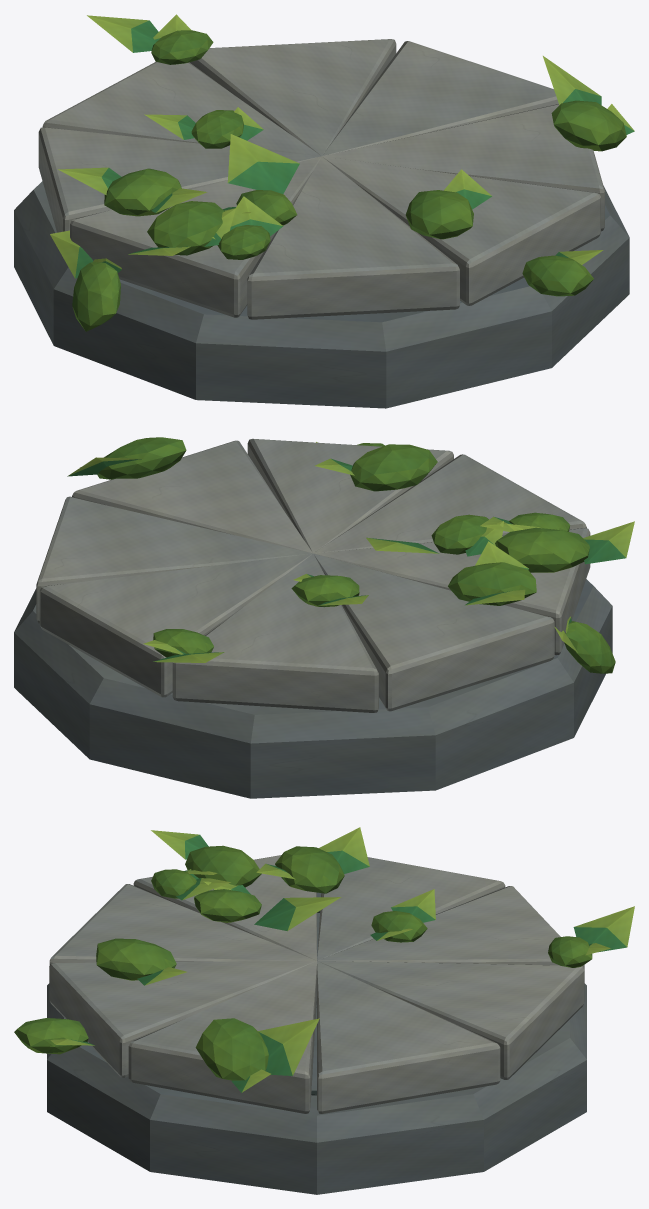
The model's file is forest_shrine_plinth.glb.
3 renders of one model, top to bottom at view 1: azimuth 30°, elevation 25°; view 2: azimuth 150°, elevation 25°; view 3: azimuth 270°, elevation 25°, orthographic. The views are drawn at different scales.
Parts seen in each view (by area): view 1: Shrine stone pedestal, Radial shrine paving stone.005, Radial shrine paving stone.006, Radial shrine paving stone.001, Radial shrine paving stone, Radial shrine paving stone.007, Radial shrine paving stone.004, Radial shrine paving stone.003, Radial shrine paving stone.002, Woodland shared moss cushion.044, Woodland shared moss cushion.042, Woodland shared curved ivy leaf.117 (+15 smaller); view 2: Shrine stone pedestal, Radial shrine paving stone.003, Radial shrine paving stone.002, Radial shrine paving stone.001, Radial shrine paving stone, Radial shrine paving stone.007, Radial shrine paving stone.006, Radial shrine paving stone.005, Radial shrine paving stone.004, Woodland shared moss cushion.044, Woodland shared moss cushion.041, Woodland shared moss cushion.039 (+13 smaller); view 3: Shrine stone pedestal, Radial shrine paving stone, Radial shrine paving stone.001, Radial shrine paving stone.006, Radial shrine paving stone.007, Radial shrine paving stone.002, Radial shrine paving stone.005, Radial shrine paving stone.003, Radial shrine paving stone.004, Woodland shared moss cushion.042, Woodland shared moss cushion.041, Woodland shared moss cushion.039 (+12 smaller).
Boxes of the visible parts, x1,y1,x2,y2 form: Shrine stone pedestal: (14,181,629,408); Radial shrine paving stone.005: (247,156,459,319); Radial shrine paving stone.006: (322,156,600,305); Radial shrine paving stone.001: (190,39,396,155); Radial shrine paving stone: (322,41,558,155); Radial shrine paving stone.007: (322,104,604,231); Radial shrine paving stone.004: (70,156,321,317); Radial shrine paving stone.003: (38,127,320,232); Radial shrine paving stone.002: (42,62,321,156); Woodland shared moss cushion.044: (147,201,224,255); Woodland shared moss cushion.042: (551,100,626,151); Woodland shared curved ivy leaf.117: (227,134,299,193); Shrine stone pedestal: (14,579,612,798); Radial shrine paving stone.003: (314,553,554,711); Radial shrine paving stone.002: (172,553,378,712); Radial shrine paving stone.001: (39,553,312,697); Radial shrine paving stone: (36,496,312,623); Radial shrine paving stone.007: (72,440,312,553); Radial shrine paving stone.006: (247,438,453,553); Radial shrine paving stone.005: (314,454,586,553); Radial shrine paving stone.004: (313,528,590,655); Woodland shared moss cushion.044: (495,527,589,572); Woodland shared moss cushion.041: (350,444,437,491); Woodland shared moss cushion.039: (448,562,536,605); Shrine stone pedestal: (47,892,586,1194); Radial shrine paving stone: (317,961,500,1113); Radial shrine paving stone.001: (317,960,584,1079); Radial shrine paving stone.006: (49,960,316,1077); Radial shrine paving stone.007: (128,961,316,1113); Radial shrine paving stone.002: (318,886,584,968); Radial shrine paving stone.005: (49,884,315,964); Radial shrine paving stone.003: (317,857,505,960); Radial shrine paving stone.004: (133,855,316,960); Woodland shared moss cushion.042: (195,1018,268,1080); Woodland shared moss cushion.041: (96,938,176,980); Woodland shared moss cushion.039: (275,846,344,893).
Size of the model in its own units: 1.61 by 0.4786 by 1.73.
6 materials, 5 textured.
